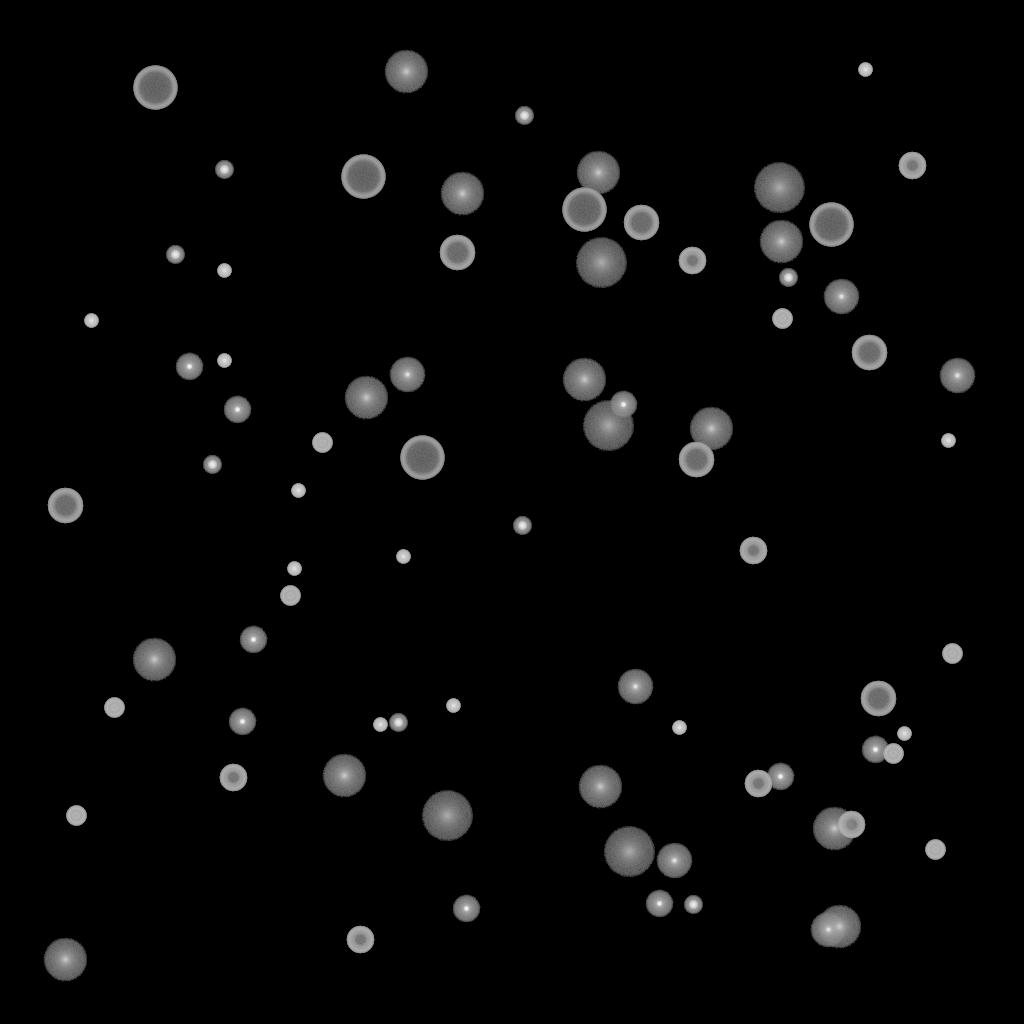depth:-10: (452, 895, 480, 923), (228, 708, 256, 736), (645, 890, 673, 918), (609, 391, 637, 419), (175, 353, 203, 381), (766, 763, 794, 791), (861, 736, 889, 764), (223, 396, 251, 424), (239, 626, 267, 654)
depth:-20: (203, 456, 221, 474), (515, 107, 533, 125), (215, 161, 233, 179), (389, 714, 407, 732), (684, 896, 702, 914), (779, 269, 797, 287), (513, 517, 531, 535), (166, 246, 184, 264)
depth:-30: (217, 264, 231, 278), (897, 727, 911, 741), (84, 314, 98, 328), (287, 562, 301, 576), (858, 63, 872, 77), (941, 434, 955, 448), (396, 550, 410, 564), (373, 718, 387, 732), (291, 484, 305, 498), (446, 699, 460, 713), (672, 721, 686, 735), (217, 354, 231, 368)
depth:-40: (280, 586, 300, 606), (104, 698, 124, 718), (772, 309, 792, 329), (942, 644, 962, 664), (312, 433, 332, 453), (883, 744, 903, 764), (925, 840, 945, 860), (66, 806, 86, 826)
depth:-50: (219, 764, 247, 792), (678, 247, 706, 275), (346, 926, 374, 954), (744, 770, 772, 798), (739, 537, 767, 565), (837, 811, 865, 839), (898, 152, 926, 180)
depth:-60: (47, 488, 83, 524), (860, 681, 896, 717), (678, 442, 714, 478), (623, 205, 659, 241), (439, 235, 475, 271), (851, 335, 887, 371)
depth:-70: (133, 66, 177, 110), (809, 203, 853, 247), (562, 188, 606, 232), (400, 436, 444, 480), (341, 155, 385, 199)
depth:0: (810, 912, 846, 948), (656, 843, 692, 879), (617, 669, 653, 705), (939, 358, 975, 394), (389, 357, 425, 393), (823, 279, 859, 315)
depth:10: (344, 376, 388, 420), (322, 754, 366, 798), (759, 220, 803, 264), (43, 938, 87, 982), (812, 807, 856, 851), (384, 50, 428, 94), (578, 765, 622, 809), (689, 407, 733, 451), (576, 151, 620, 195), (440, 172, 484, 216), (132, 638, 176, 682), (817, 905, 861, 949), (562, 358, 606, 402)
depth:20: (753, 163, 805, 213), (603, 827, 655, 877), (575, 238, 627, 288), (421, 791, 473, 841), (582, 401, 634, 451)
